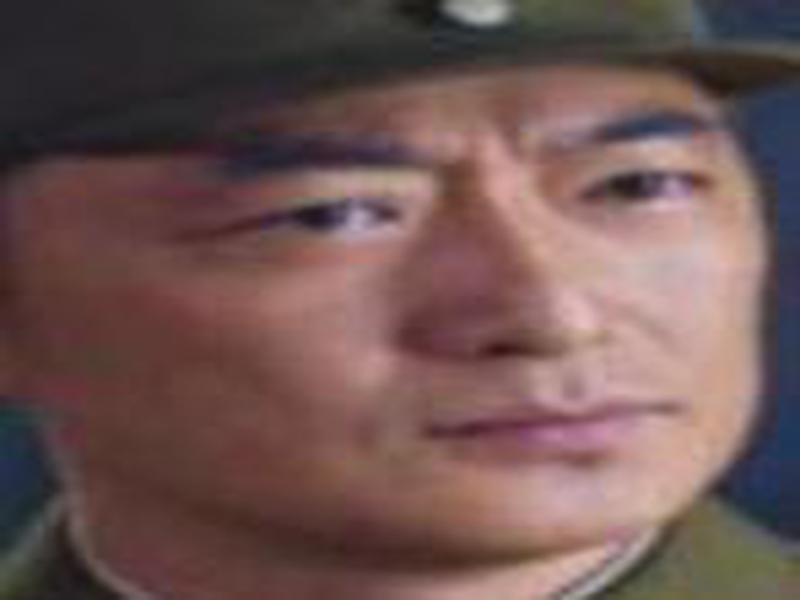without_mask: (33, 72, 768, 546)
